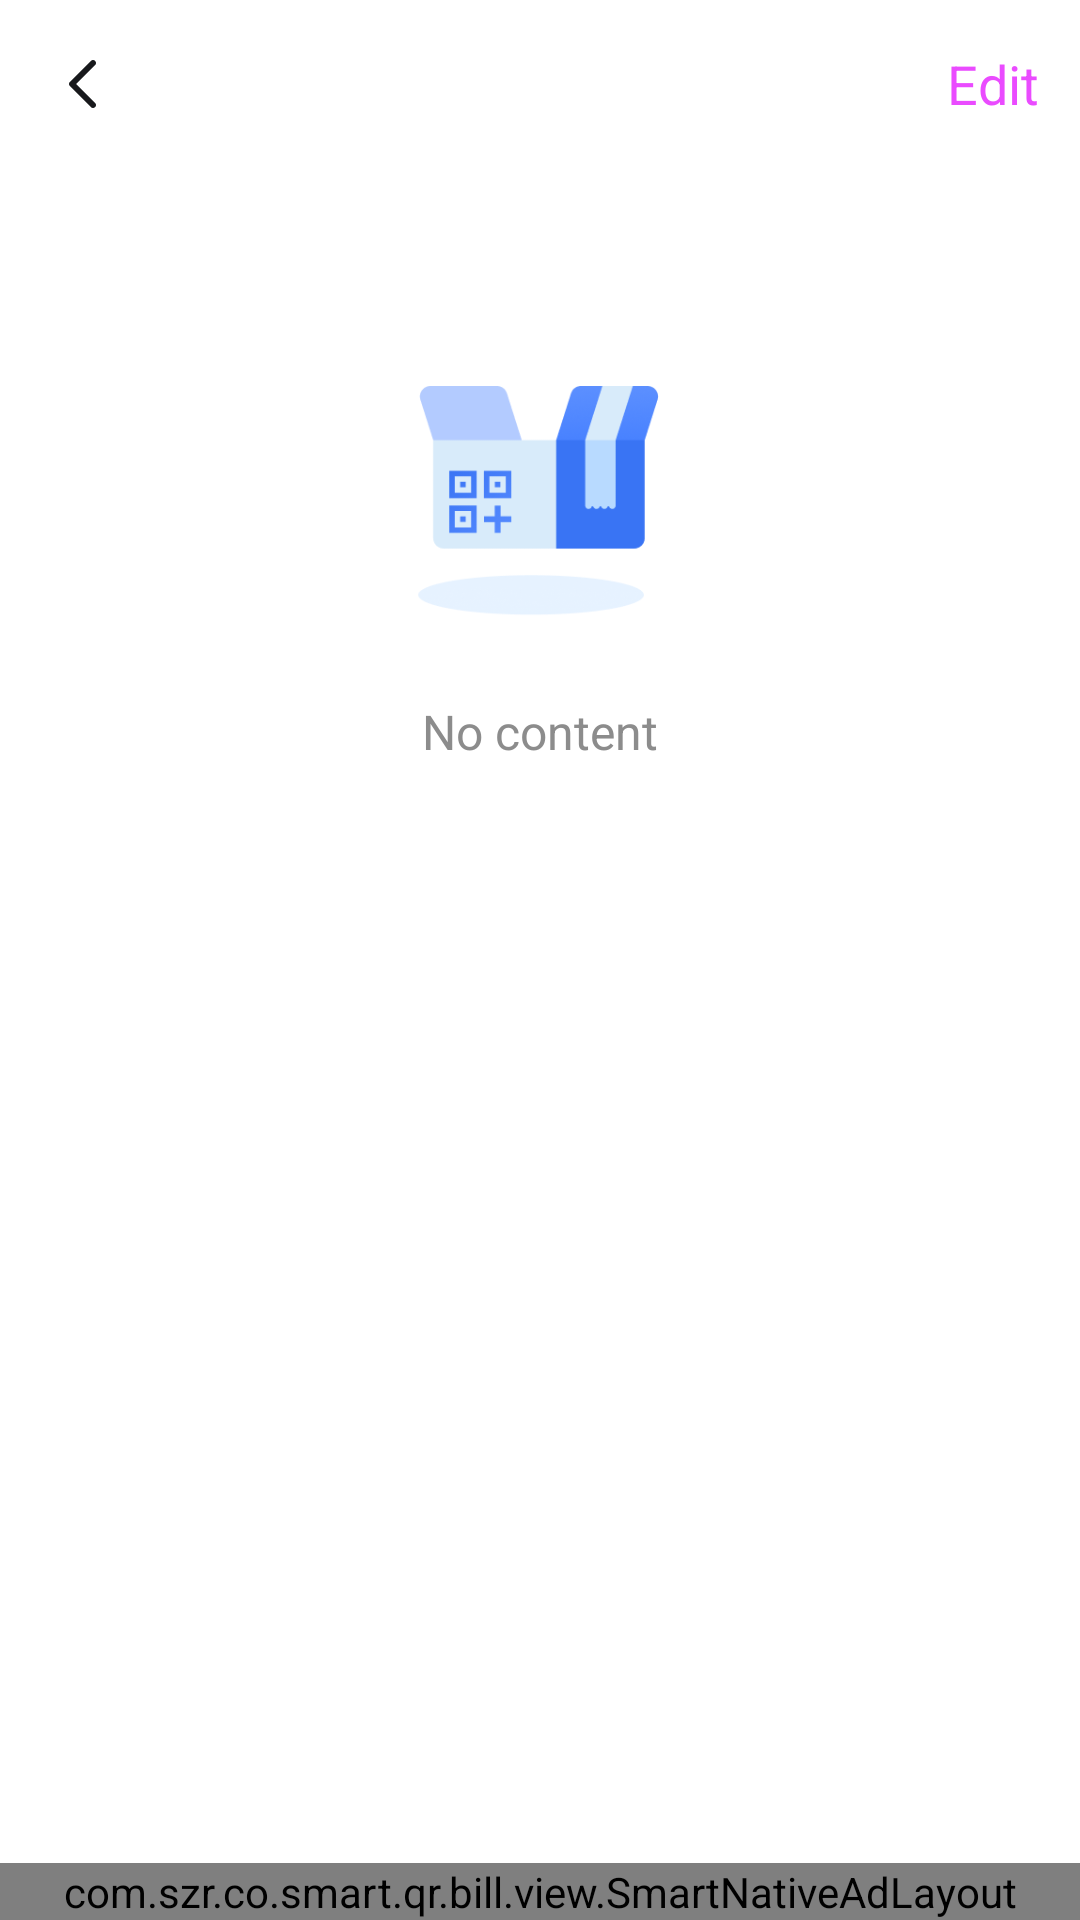

Icons on this 1080 × 1920 Android screen, each with the point to tap as (x,y):
arrow back: (82,84)
empty: (538,500)
